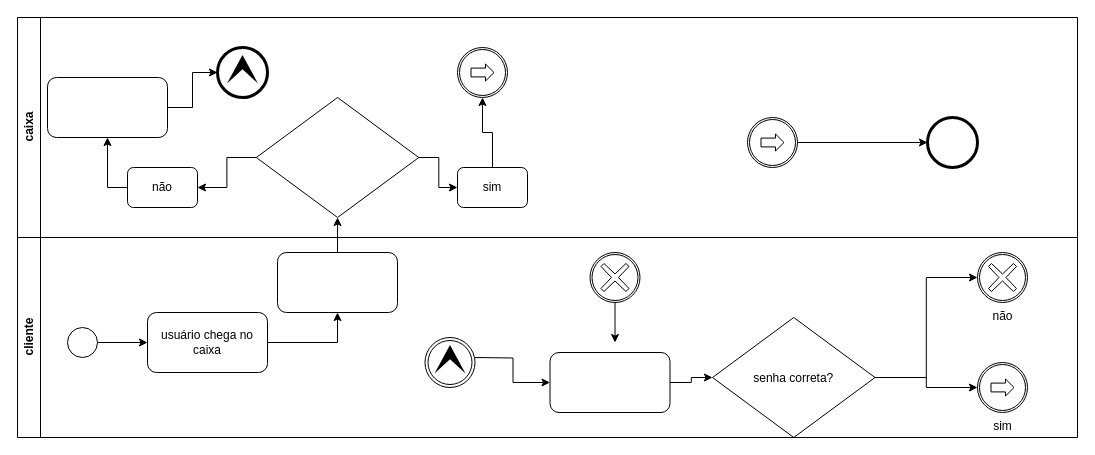
This 1095x455 diagram has some shape labels left out. Each missing label, with the box of its shape:
biometria validada?: (255, 96, 419, 218)
faz a leitura biométrica: (276, 252, 398, 312)
Informe a senha: (549, 352, 670, 412)
Mensagem de erro na validação biométrica: (46, 76, 168, 138)
